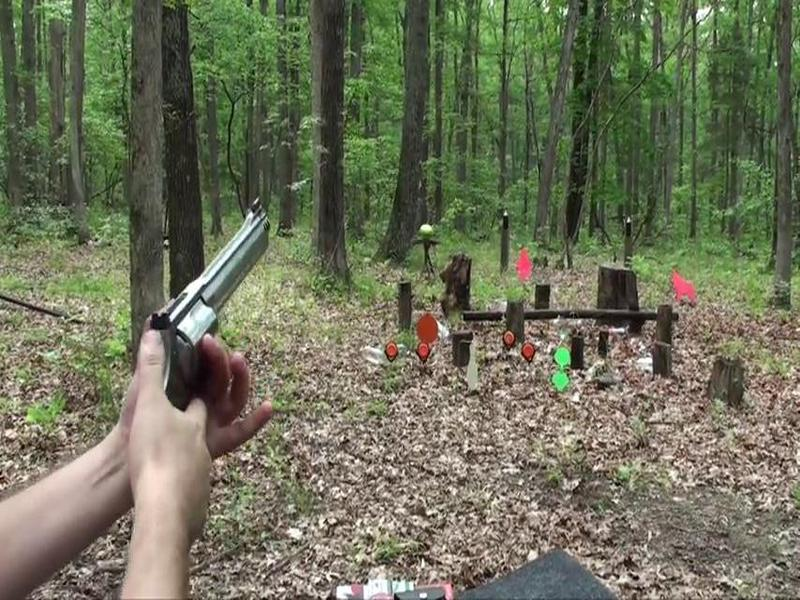Revolver: (127, 196, 288, 429)
